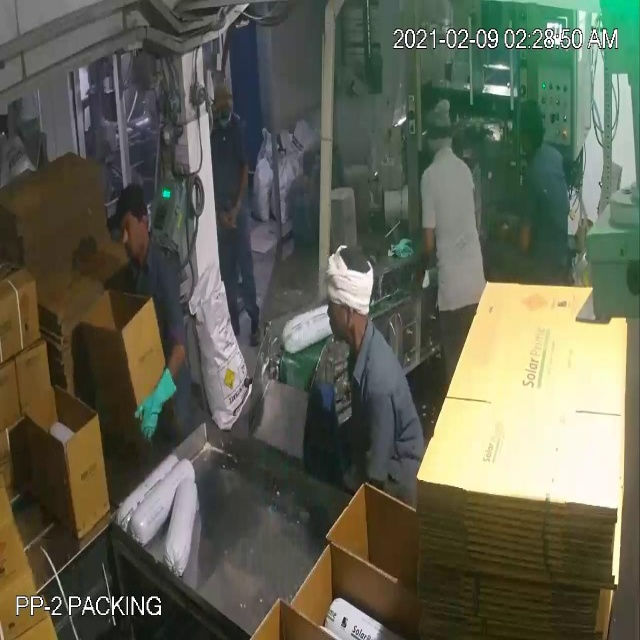Guantes: (130, 362, 190, 441)
Sin_guantes: (224, 148, 256, 236)
